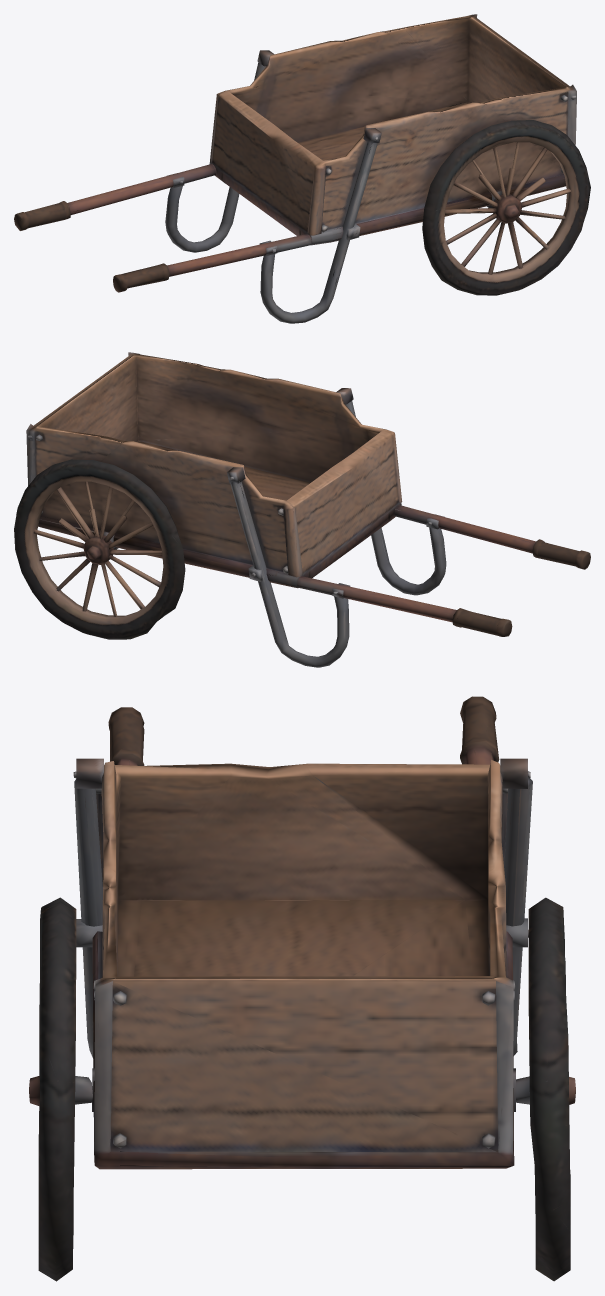
The model's file is hand_cart.glb.
3 renders of one model, top to bottom at view 1: azimuth 30°, elevation 25°; view 2: azimuth 150°, elevation 25°; view 3: azimuth 270°, elevation 25°, orthographic. The views are drawn at different scales.
Parts seen in each view (by area): view 1: geometry_0; view 2: geometry_0; view 3: geometry_0.
Boxes of the visible parts, x1,y1,x2,y2 form: geometry_0: [14, 14, 590, 323]; geometry_0: [14, 352, 590, 667]; geometry_0: [29, 696, 575, 1281].
Bounding box in the file's own units: 0.9531 × 0.3672 × 0.4834.
1 material, 1 textured.
